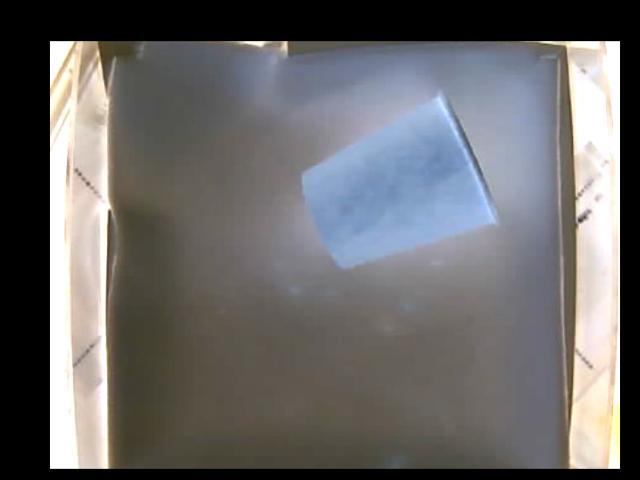Cup: (300, 91, 503, 266)
